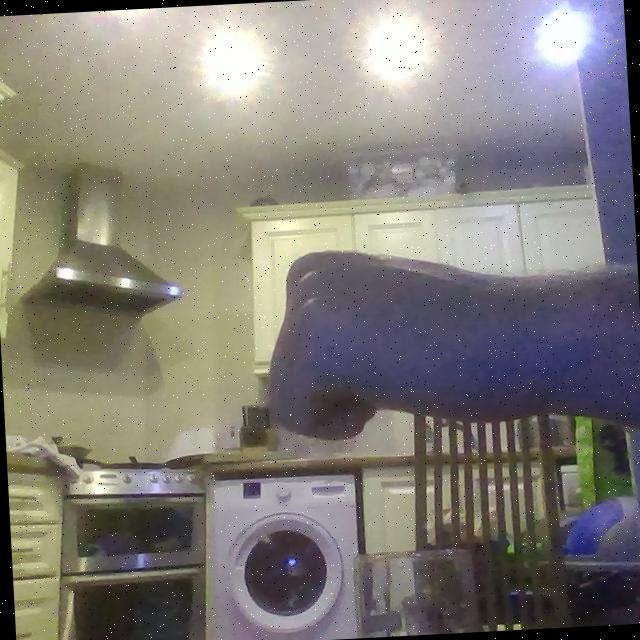rock: (259, 241, 520, 445)
